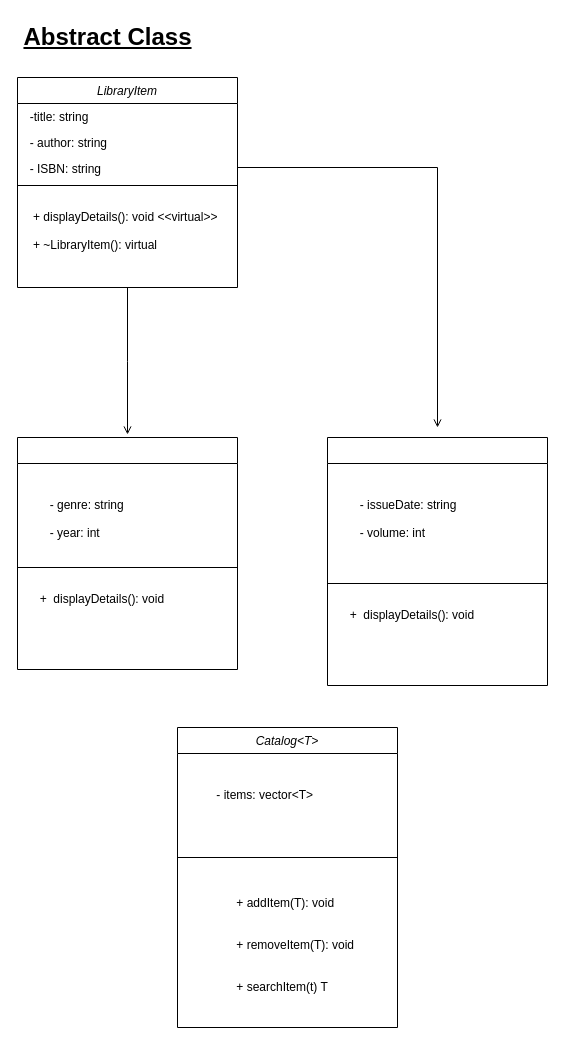
This 565x1047 diagram has some shape labels left out. The box of each missing label's shape, as (x1, y1, x2, y2) in pixels:
Book: (16, 436, 238, 670)
Magazine: (326, 436, 548, 686)
